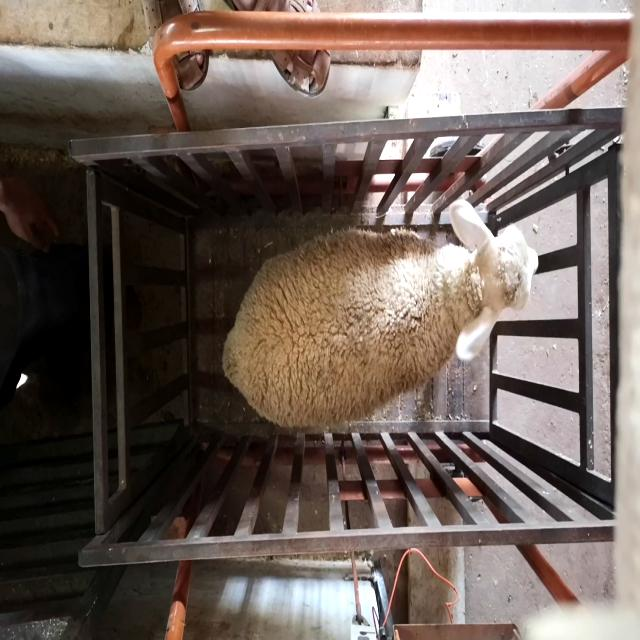sheep: (220, 199, 540, 429)
